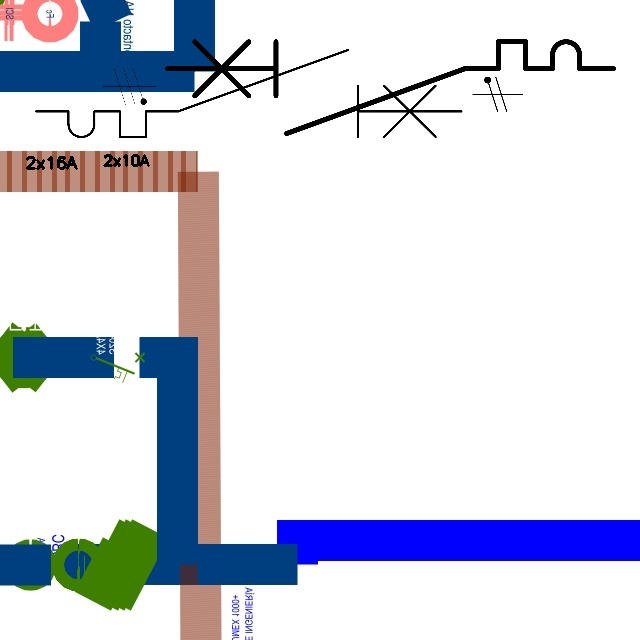interruptor_termomagnetico: (156, 30, 625, 144), (25, 39, 472, 148)
